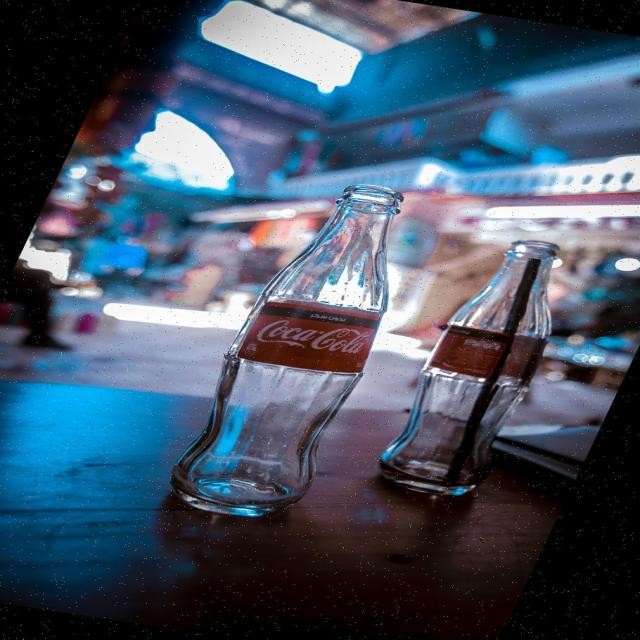coca-cola: (143, 169, 455, 532), (347, 223, 593, 515)
